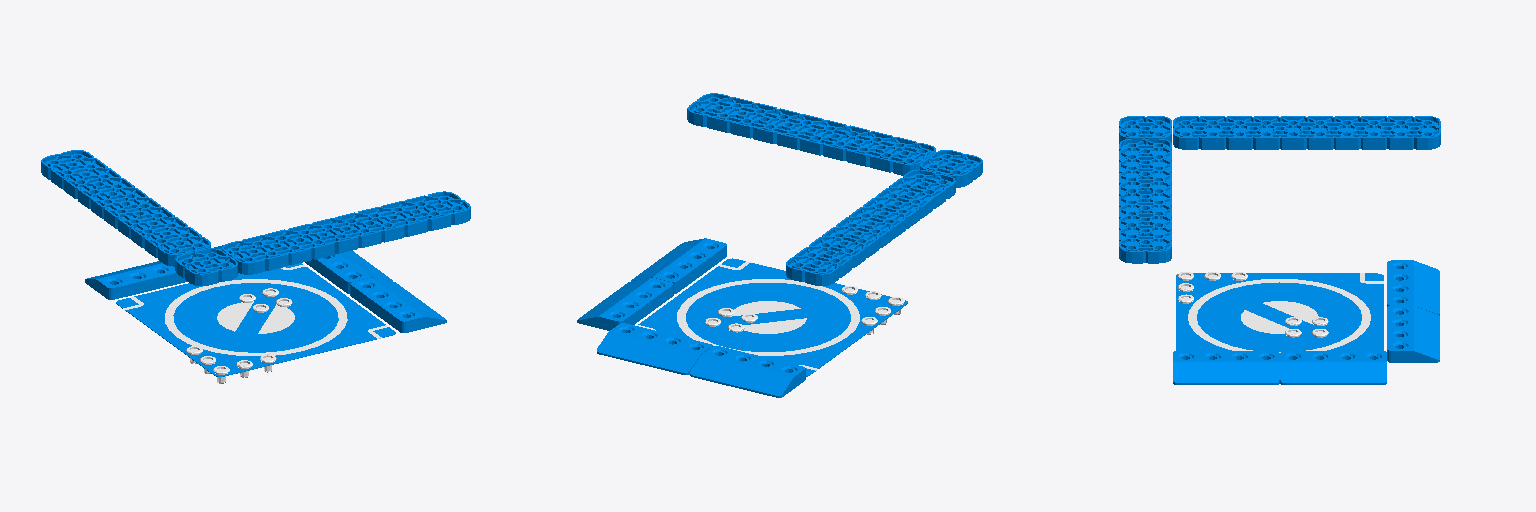
File: VIQRC-MixAndMatch-H2H-_-GameObjects_SquareCorner.obj
3 views of the same model, side by side, from view 1: azimuth 30°, elevation 25°; view 2: azimuth 150°, elevation 25°; view 3: azimuth 270°, elevation 25° (orthographic).
Visible parts, largest first — view 1: Body1:3, Body1, Body6, Body7, Body1:1, Body1:5, Body5, Body1:2, Body1:4, Body11, Body1:7; view 2: Body1:3, Body1, Body6, Body7, Body1:5, Body1:6, Body1:4, Body1:1, Body5, Body1:2, Body1:7, Body11; view 3: Body1, Body6, Body1:3, Body7, Body1:1, Body1:4, Body1:6, Body1:5, Body5, Body1:2, Body11, Body1:7.
Part boxes in pixels (bbox=[...]): Body1:3: bbox=[222, 191, 470, 274]; Body1: bbox=[41, 150, 210, 266]; Body6: bbox=[173, 283, 338, 352]; Body7: bbox=[126, 267, 385, 376]; Body1:1: bbox=[350, 278, 446, 332]; Body1:5: bbox=[85, 261, 187, 299]; Body5: bbox=[165, 279, 347, 355]; Body1:2: bbox=[175, 248, 237, 285]; Body1:4: bbox=[305, 251, 392, 293]; Body11: bbox=[217, 302, 253, 331]; Body1:7: bbox=[258, 304, 294, 333]; Body1:3: bbox=[687, 93, 935, 175]; Body1: bbox=[786, 169, 955, 285]; Body6: bbox=[686, 283, 850, 351]; Body7: bbox=[638, 263, 907, 368]; Body1:5: bbox=[690, 346, 805, 397]; Body1:6: bbox=[597, 323, 712, 374]; Body1:4: bbox=[577, 278, 673, 330]; Body1:1: bbox=[631, 238, 726, 293]; Body5: bbox=[677, 279, 859, 355]; Body1:2: bbox=[920, 150, 982, 187]; Body1:7: bbox=[730, 301, 800, 316]; Body11: bbox=[743, 318, 806, 333]; Body1: bbox=[1173, 116, 1440, 149]; Body6: bbox=[1197, 282, 1361, 351]; Body1:3: bbox=[1119, 139, 1171, 263]; Body7: bbox=[1176, 273, 1383, 350]; Body1:1: bbox=[1173, 351, 1279, 384]; Body1:4: bbox=[1280, 351, 1386, 384]; Body1:6: bbox=[1387, 306, 1439, 362]; Body1:5: bbox=[1387, 260, 1439, 315]; Body5: bbox=[1188, 279, 1370, 352]; Body1:2: bbox=[1119, 116, 1171, 143]; Body11: bbox=[1263, 301, 1318, 324]; Body1:7: bbox=[1241, 310, 1288, 333].
Size of the model in its own units: 152 by 75.26 by 152.